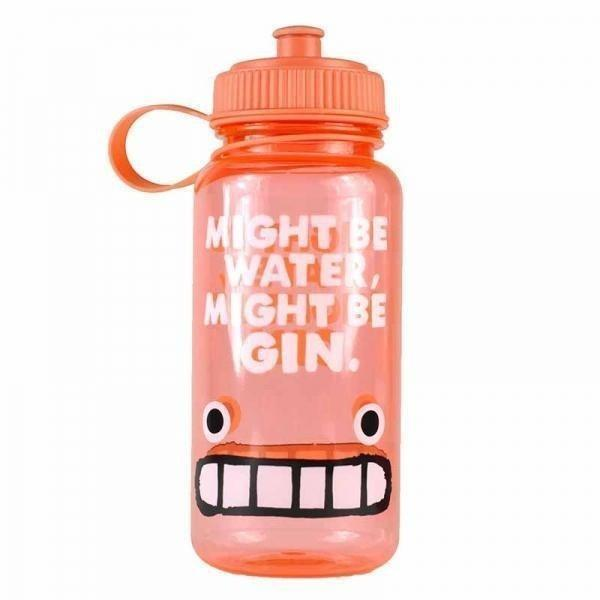gym bottle: (107, 19, 412, 588)
